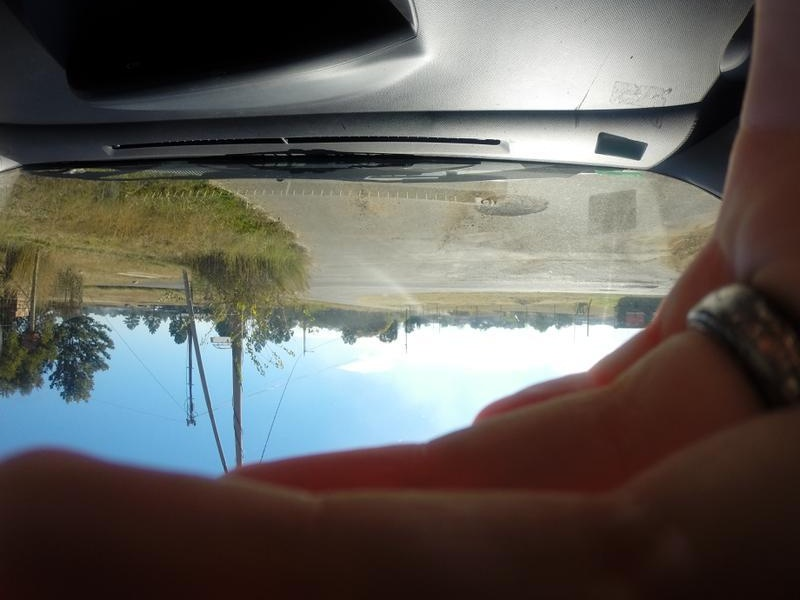pothole: (474, 195, 548, 224), (629, 286, 658, 290), (599, 289, 625, 293)
